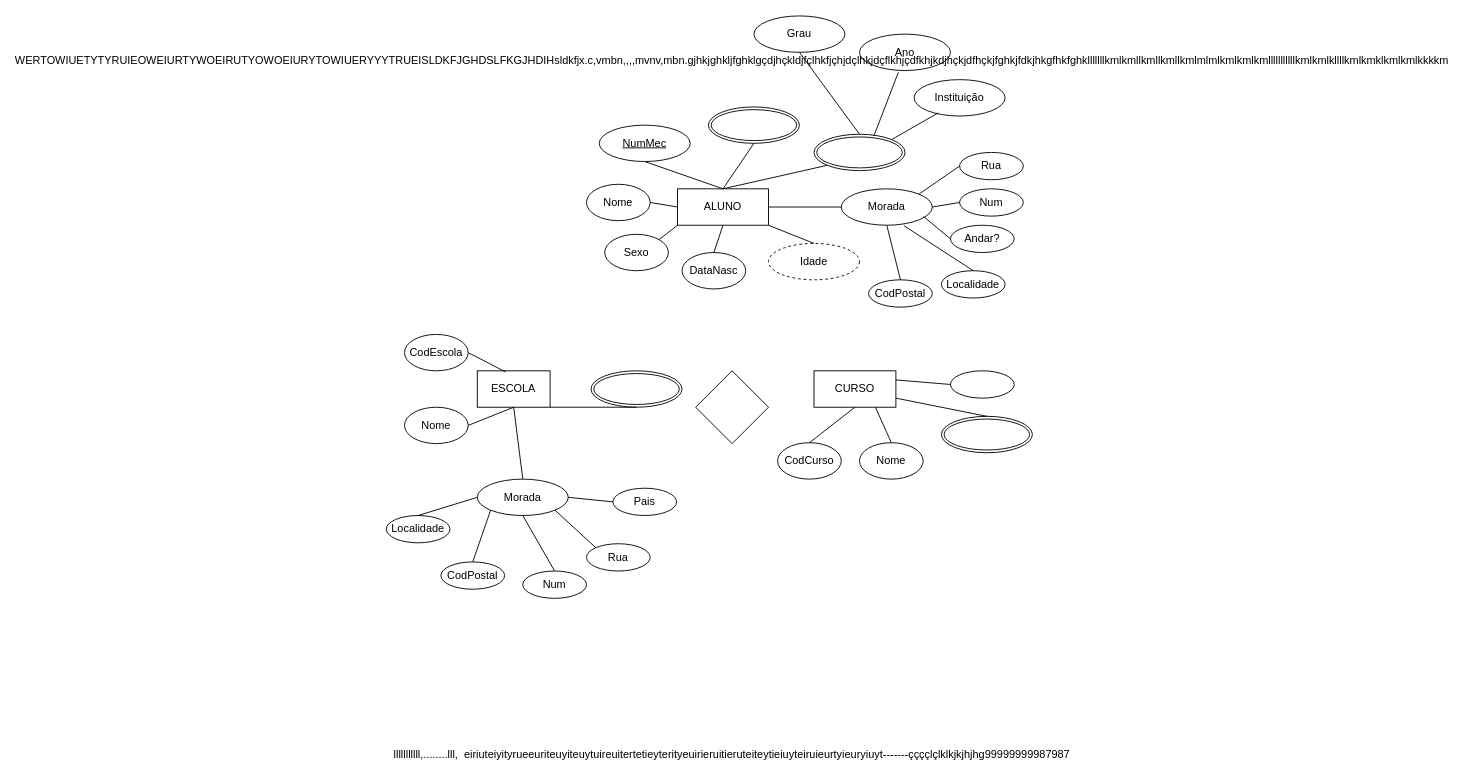
This 1464x776 diagram has some shape labels left out. Here are the shapes that lost their labels. From the top down, the centre of each, then its label:
the point at 753,124: NumTelef
the point at 859,152: Habilitação
the point at 636,388: Telefone
the point at 982,384: Activo
the point at 986,434: Disciplinas
